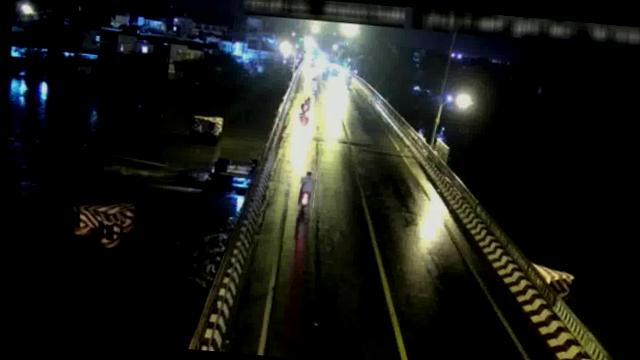Bike: (297, 172, 317, 214), (299, 95, 314, 118), (310, 76, 322, 95), (344, 70, 356, 86), (320, 70, 330, 88)
